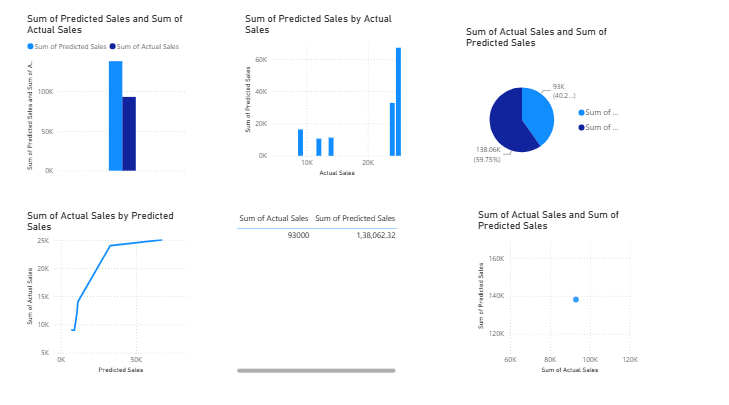

The dashboard page shown, as its layout file describes it:
{"tool":"powerbi","page":{"name":"Page 1","canvas":[1280,720],"ordinal":0},"visuals":[{"type":"clusteredColumnChart","fields":{"Y":["Sum(Predicted_Sales.Predicted Sales)","Sum(Predicted_Sales.Actual Sales)"]},"box":[53.8,30.2,278.8,280.5],"z":1},{"type":"lineChart","fields":{"Y":["Sum(Predicted_Sales.Actual Sales)"],"Category":["Predicted_Sales.Predicted Sales"]},"box":[53.8,361.2,278.8,280.5],"z":2},{"type":"clusteredColumnChart","fields":{"Category":["Predicted_Sales.Actual Sales"],"Y":["Sum(Predicted_Sales.Predicted Sales)"]},"box":[419.9,30.2,278.8,280.5],"z":3},{"type":"tableEx","fields":{"Values":["Sum(Predicted_Sales.Actual Sales)","Sum(Predicted_Sales.Predicted Sales)"]},"box":[404.8,361.2,280.5,280.5],"z":4},{"type":"pieChart","fields":{"Y":["Sum(Predicted_Sales.Actual Sales)","Sum(Predicted_Sales.Predicted Sales)"]},"box":[791.2,52.1,278.8,280.5],"z":5},{"type":"scatterChart","fields":{"X":["Sum(Predicted_Sales.Actual Sales)"],"Y":["Sum(Predicted_Sales.Predicted Sales)"]},"box":[811.3,359.5,278.8,282.2],"z":6}]}

Visuals, with their boxes in screenshot pixels (x1, y1, x2, y2), scaled from the page's 1280x720 canvas onto the 729x405 screenshot:
clusteredColumnChart - Sum(Predicted_Sales.Predicted Sales) x Sum(Predicted_Sales.Actual Sales): (x1=31, y1=17, x2=189, y2=175)
lineChart - Sum(Predicted_Sales.Actual Sales) x Predicted_Sales.Predicted Sales: (x1=31, y1=203, x2=189, y2=361)
clusteredColumnChart - Predicted_Sales.Actual Sales x Sum(Predicted_Sales.Predicted Sales): (x1=239, y1=17, x2=398, y2=175)
tableEx - Sum(Predicted_Sales.Actual Sales) x Sum(Predicted_Sales.Predicted Sales): (x1=231, y1=203, x2=390, y2=361)
pieChart - Sum(Predicted_Sales.Actual Sales) x Sum(Predicted_Sales.Predicted Sales): (x1=451, y1=29, x2=609, y2=187)
scatterChart - Sum(Predicted_Sales.Actual Sales) x Sum(Predicted_Sales.Predicted Sales): (x1=462, y1=202, x2=621, y2=361)
